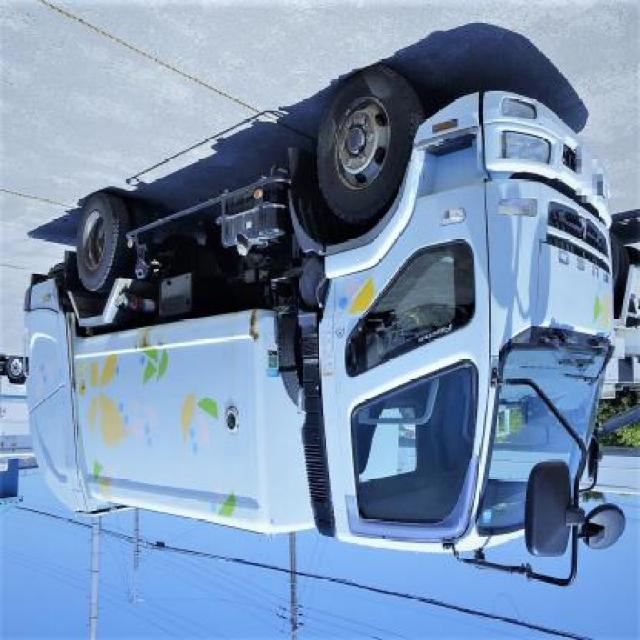truck: (24, 76, 640, 558)
